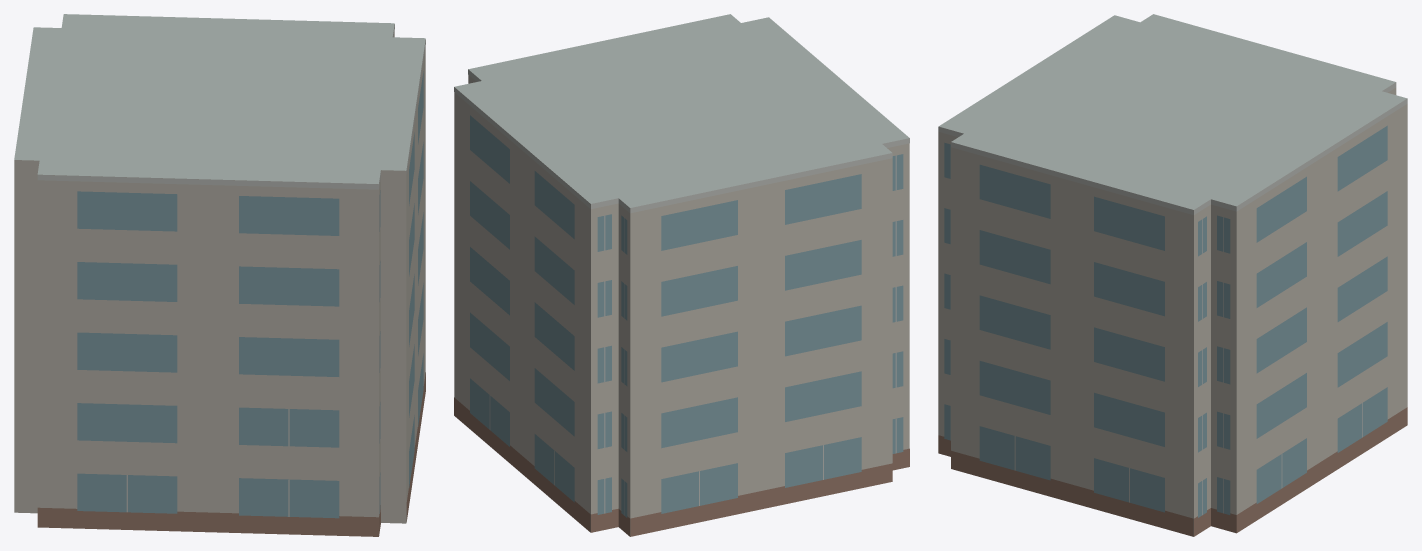
File: survey-upis-32950657.glb
The picture shows the model from 3 angles, left to right: view 1: azimuth 30°, elevation 25°; view 2: azimuth 150°, elevation 25°; view 3: azimuth 270°, elevation 25°; orthographic projection. The views are drawn at different scales.
Parts seen in each view (by area): view 1: survey-upis-32950657.tmp; view 2: survey-upis-32950657.tmp; view 3: survey-upis-32950657.tmp.
Part boxes in pixels (left/top/right/bottom): survey-upis-32950657.tmp: left=14, top=14, right=425, bottom=536; survey-upis-32950657.tmp: left=454, top=14, right=909, bottom=536; survey-upis-32950657.tmp: left=938, top=14, right=1407, bottom=536.
Size of the model in its own units: 19.62 by 15.25 by 19.84.
